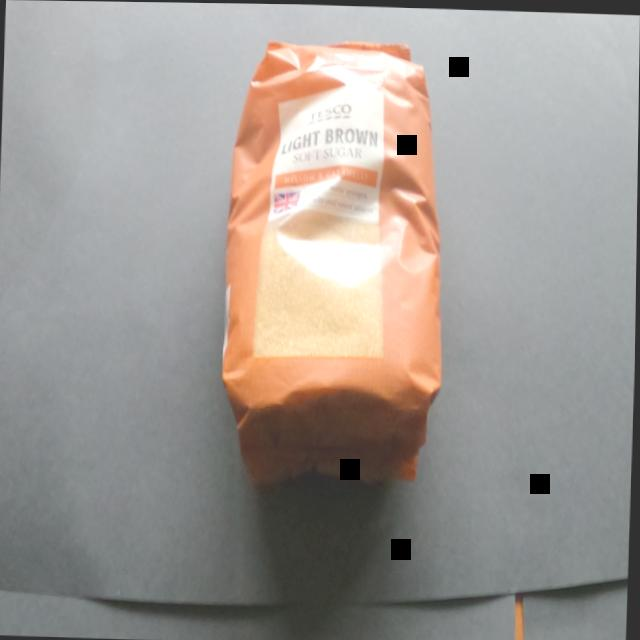Brownsugar: (199, 14, 474, 449)
